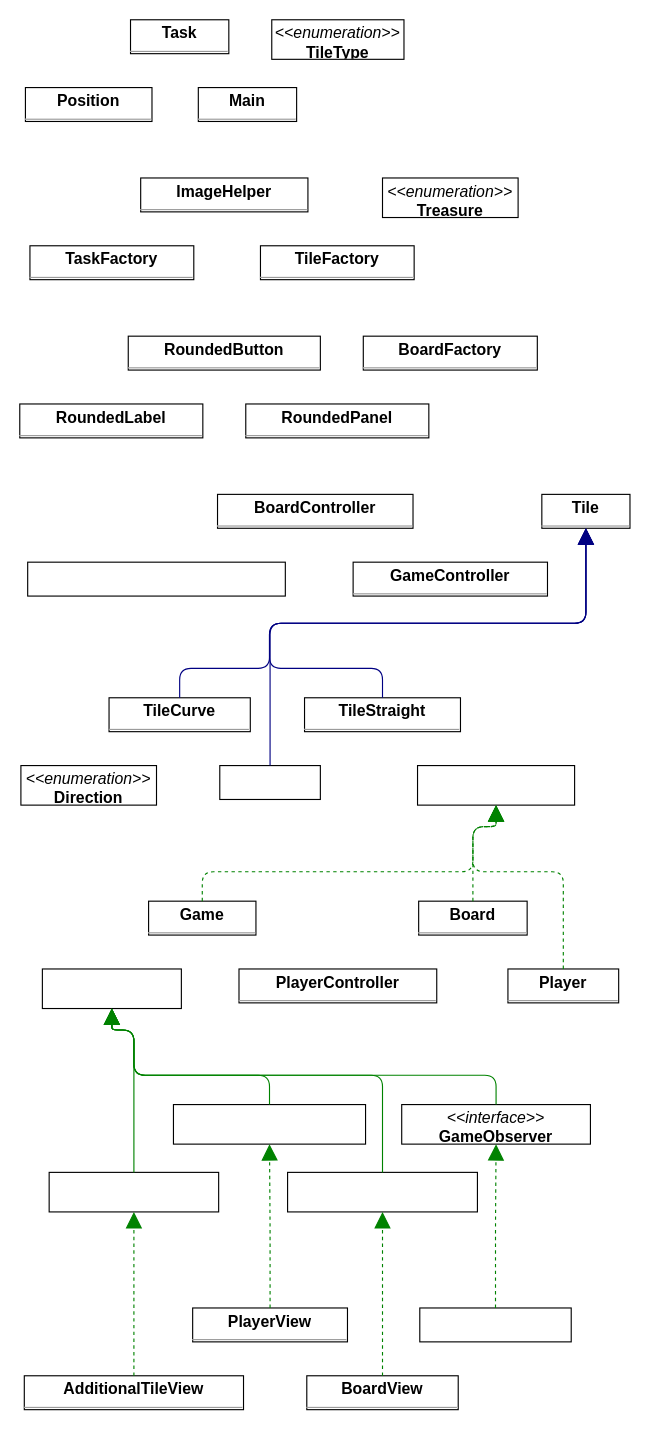
Image size: 650x1429. Some labels were removed from this diagram. The centre of each missing label's shape, as x and y in pixels:
<<interface>> BoardObserver: (381,1191)
<<interface>> Observable: (495,784)
<<interface>> Observer: (111,988)
<<interface>> PlayerObserver: (269,1123)
<<interface>> TileObserver: (133,1191)
GameView: (495,1324)
JPanelWithBackground: (156,578)
TileT: (269,781)
